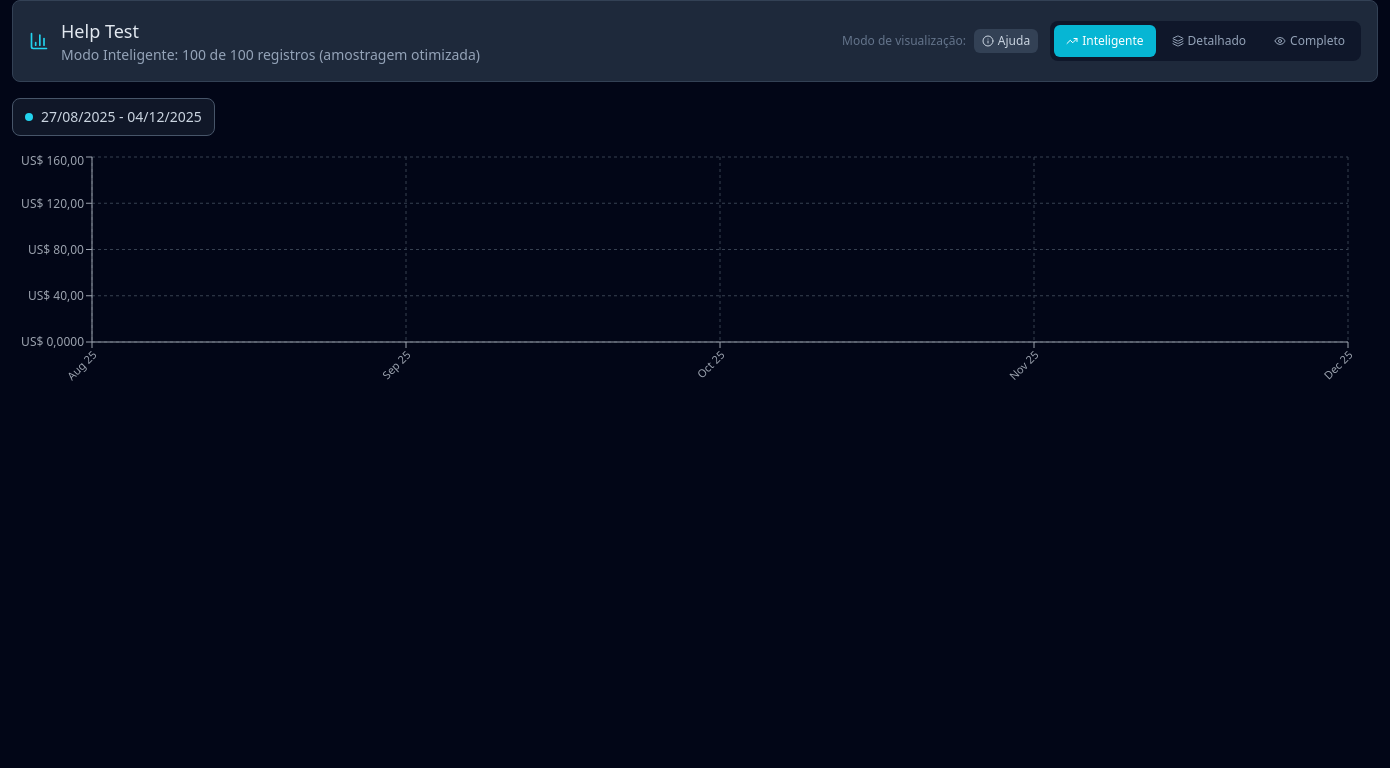
it: VirtualizedChart › shows help panel when help button is clicked
Step 1. Click the button titled "Ver explicação dos modos de visualização" → (1006, 41), box [974, 29, 1038, 53]
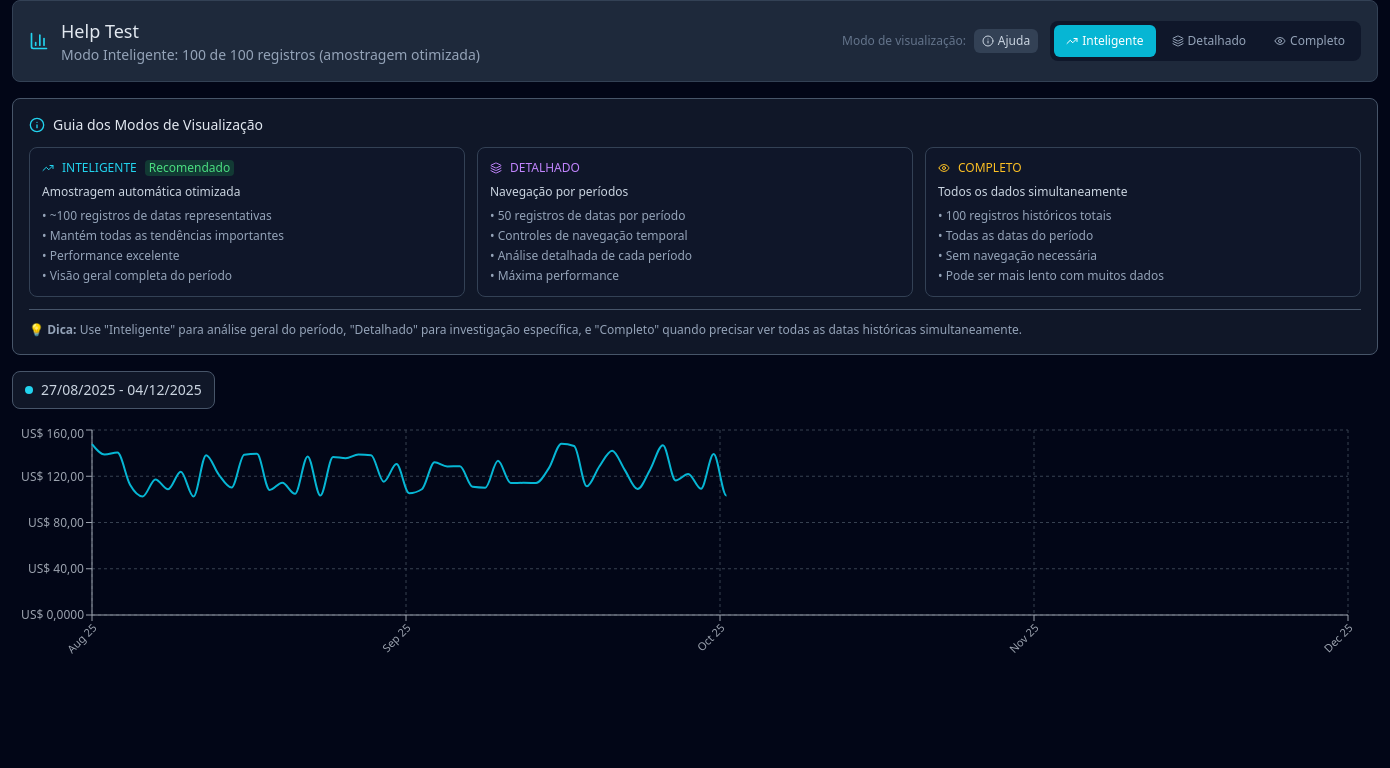
Expected: the heading "Guia dos Modos de Visualização" is shown, [53, 115, 263, 135]
Expected: the text "INTELIGENTE" is shown, [62, 160, 137, 176]
Expected: the text "DETALHADO" is shown, [510, 160, 580, 176]
